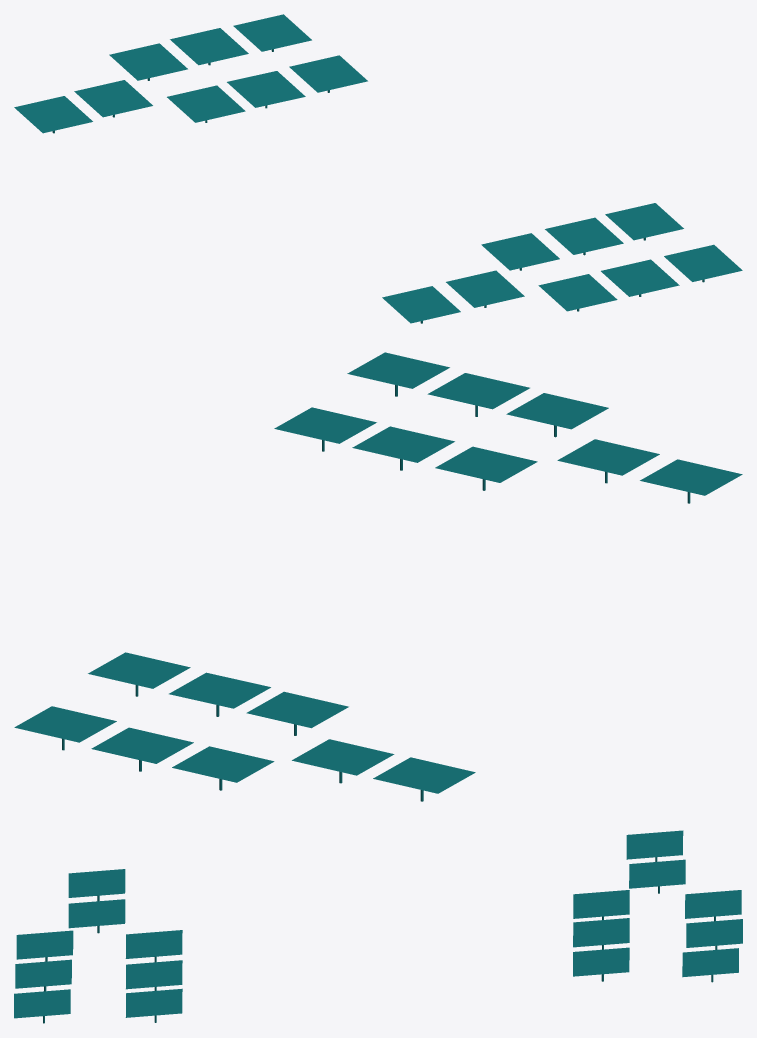
The model's file is sola.glb.
3 renders of one model, top to bottom at view 1: azimuth 30°, elevation 25°; view 2: azimuth 150°, elevation 25°; view 3: azimuth 270°, elevation 25°, orthographic. The views are drawn at different scales.
Visible parts, largest first — view 1: Cylinder.008; view 2: Cylinder.008; view 3: Cylinder.008.
Part boxes in pixels (bbox=[...]): Cylinder.008: bbox=[14, 14, 742, 323]; Cylinder.008: bbox=[14, 352, 742, 801]; Cylinder.008: bbox=[14, 830, 742, 1023].
Size of the model in its own units: 196 by 10.85 by 331.
